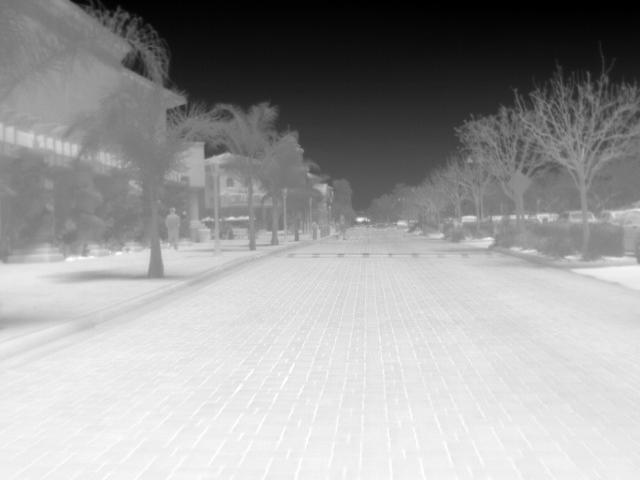car: (604, 206, 639, 228), (558, 209, 586, 226), (461, 214, 478, 228), (393, 218, 410, 232), (588, 210, 600, 224)
person: (164, 206, 182, 252), (335, 216, 350, 242)
